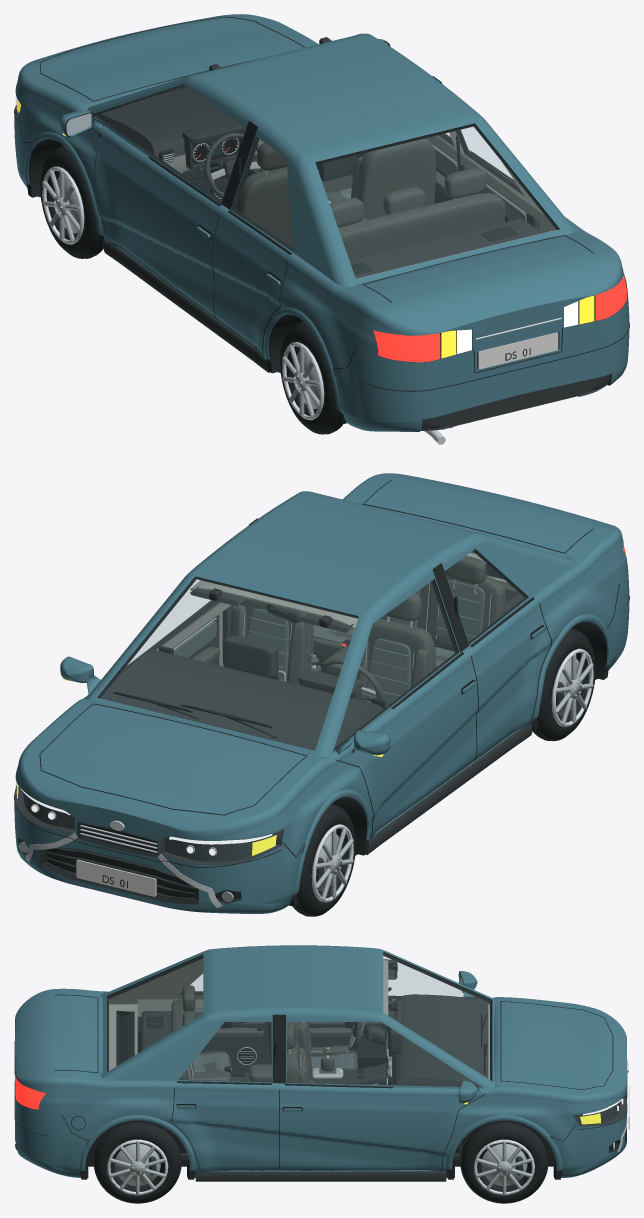
The model's file is DS_Sedan_A.glb.
The picture shows the model from 3 angles, top to bottom: view 1: azimuth 30°, elevation 25°; view 2: azimuth 150°, elevation 25°; view 3: azimuth 270°, elevation 25°; orthographic projection. The views are drawn at different scales.
Parts seen in each view (by area): view 1: Body_Shell, Glass_Rear, Glass_Front_L, RearBench_Backrest, Dashboard, Backrest.001, Glass_Rear_L, RearParcelShelf, Backrest, RearHeadrest, Tire, Tire.001 (+11 smaller); view 2: Body_Shell, Glass_Windshield, Dashboard, Glass_Front_L, Glass_Rear_L, Tire.001, Tire, PanelGap_Body, FrontLampCover_L, Body_Sills, Backrest_Insert, RearBench_Backrest (+24 smaller); view 3: Body_Shell, Glass_Front_R, Dashboard, Glass_Windshield, Glass_Rear, Glass_Rear_R, Tire.002, Tire.003, Body_Sills, Body_ArchLips, PanelGap_Body, Door_Card_Rear_L (+20 smaller).
Boxes of the visible parts, box(x1,y1,x2,y2) form: Body_Shell: box(14, 14, 629, 431); Glass_Rear: box(316, 125, 557, 278); Glass_Front_L: box(94, 85, 244, 200); RearBench_Backrest: box(338, 193, 505, 260); Dashboard: box(96, 87, 245, 157); Backrest.001: box(355, 138, 436, 219); Glass_Rear_L: box(233, 138, 292, 249); RearParcelShelf: box(349, 218, 541, 278); Backrest: box(236, 166, 292, 248); RearHeadrest: box(329, 168, 486, 227); Tire: box(40, 146, 102, 258); Tire.001: box(280, 322, 342, 434); Body_Shell: box(14, 473, 629, 913); Glass_Windshield: box(99, 577, 357, 749); Dashboard: box(100, 650, 383, 750); Glass_Front_L: box(334, 580, 457, 749); Glass_Rear_L: box(445, 550, 526, 642); Tire.001: box(533, 628, 595, 740); Tire: box(293, 804, 355, 916); PanelGap_Body: box(14, 479, 629, 867); FrontLampCover_L: box(161, 830, 282, 864); Body_Sills: box(366, 724, 532, 854); Backrest_Insert: box(366, 638, 410, 706); RearBench_Backrest: box(380, 575, 505, 651); Body_Shell: box(15, 945, 626, 1179); Glass_Front_R: box(287, 1022, 479, 1086); Dashboard: box(392, 994, 488, 1086); Glass_Windshield: box(384, 953, 490, 1078); Glass_Rear: box(108, 956, 202, 1070); Glass_Rear_R: box(180, 1022, 270, 1081); Tire.002: box(460, 1122, 548, 1203); Tire.003: box(93, 1122, 181, 1203); Body_Sills: box(195, 1171, 446, 1181); Body_ArchLips: box(80, 1115, 561, 1169); PanelGap_Body: box(14, 994, 627, 1171); Door_Card_Rear_L: box(194, 1008, 271, 1070).
Bounding box in the file's own units: 2.13 × 1.48 × 4.57.
